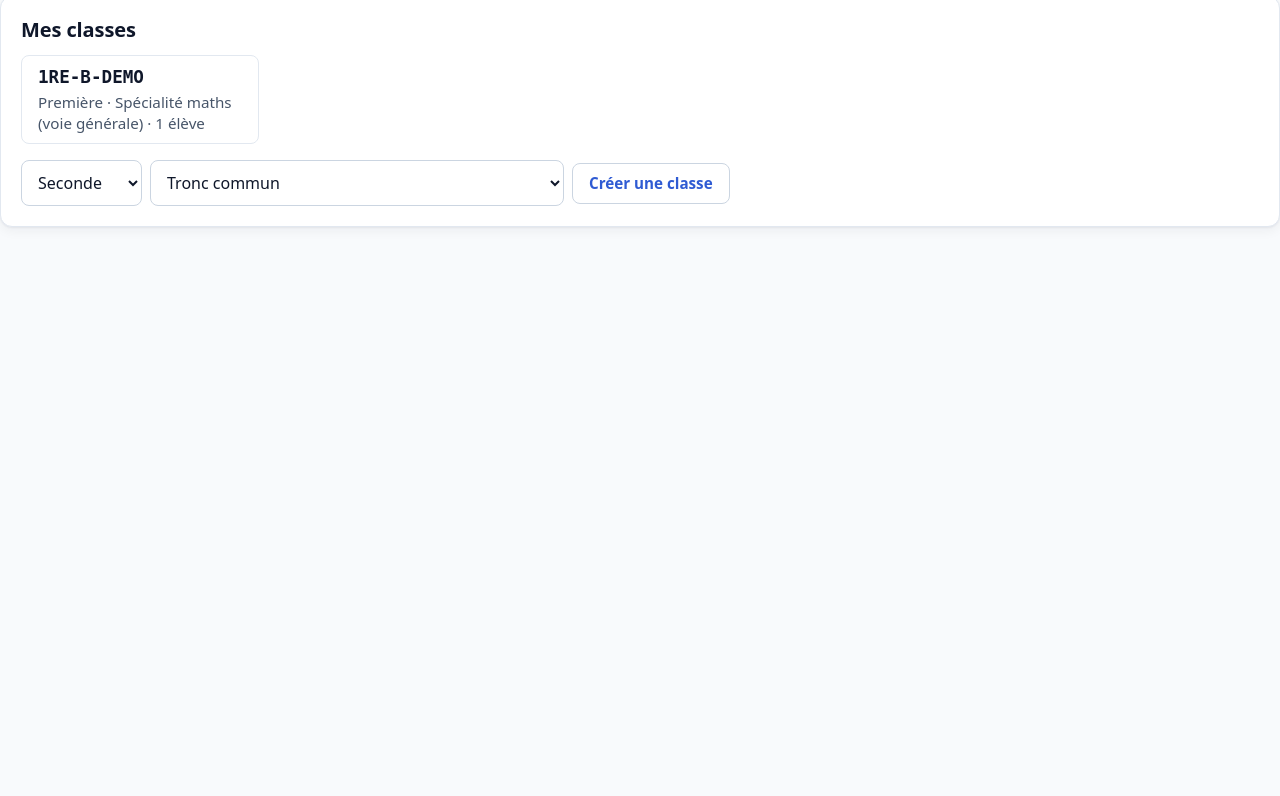
Test case: enseignant : chapitres proposés › affiche le programme, permet d'ouvrir ou fermer des chapitres et enregistre
Click the button "1RE-B-DEMO" at (140, 100), box [21,55,259,144]
(page scrolled)
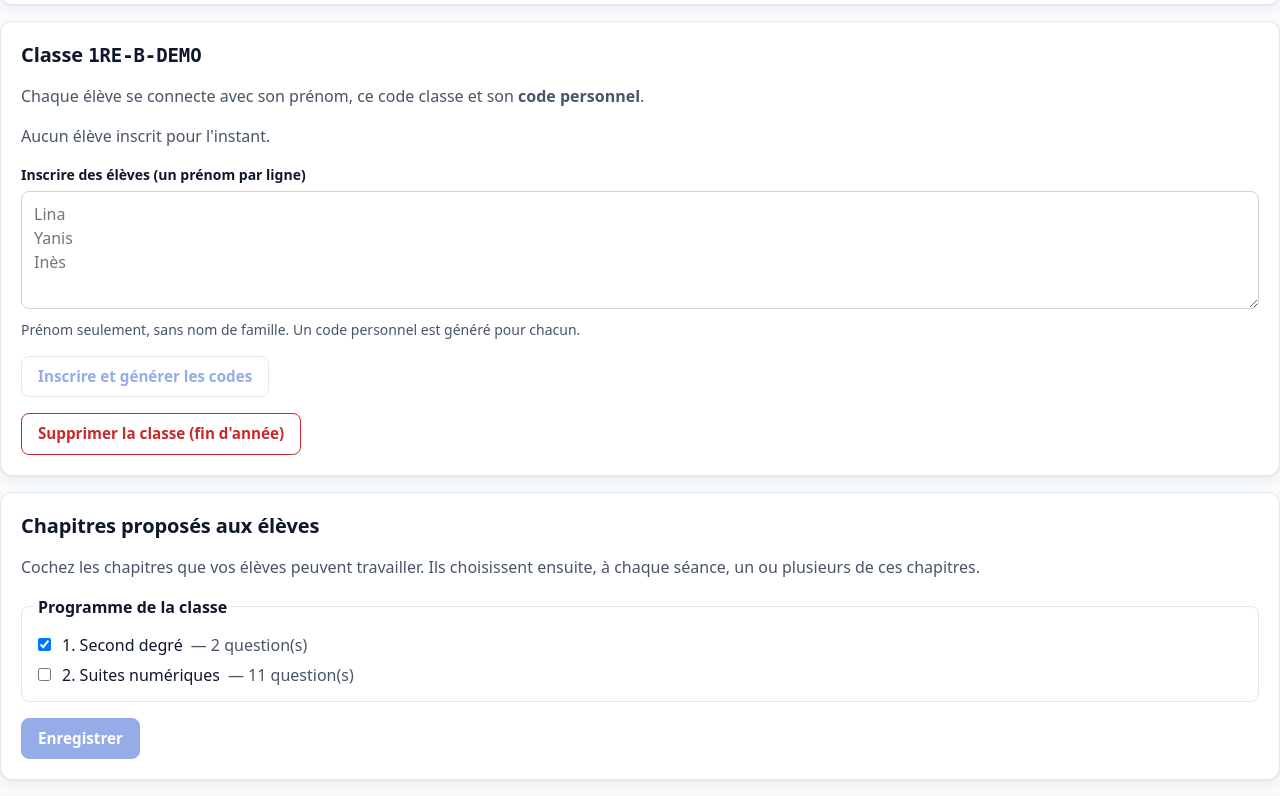
Check: the checkbox labelled "2. Suites numériques — 11 question(s)" is not checked
Check: the button "Enregistrer" is disabled, box [21,718,140,759]
Click the checkbox labelled "2. Suites numériques — 11 question(s)" at (44, 675), box [38,668,51,681]
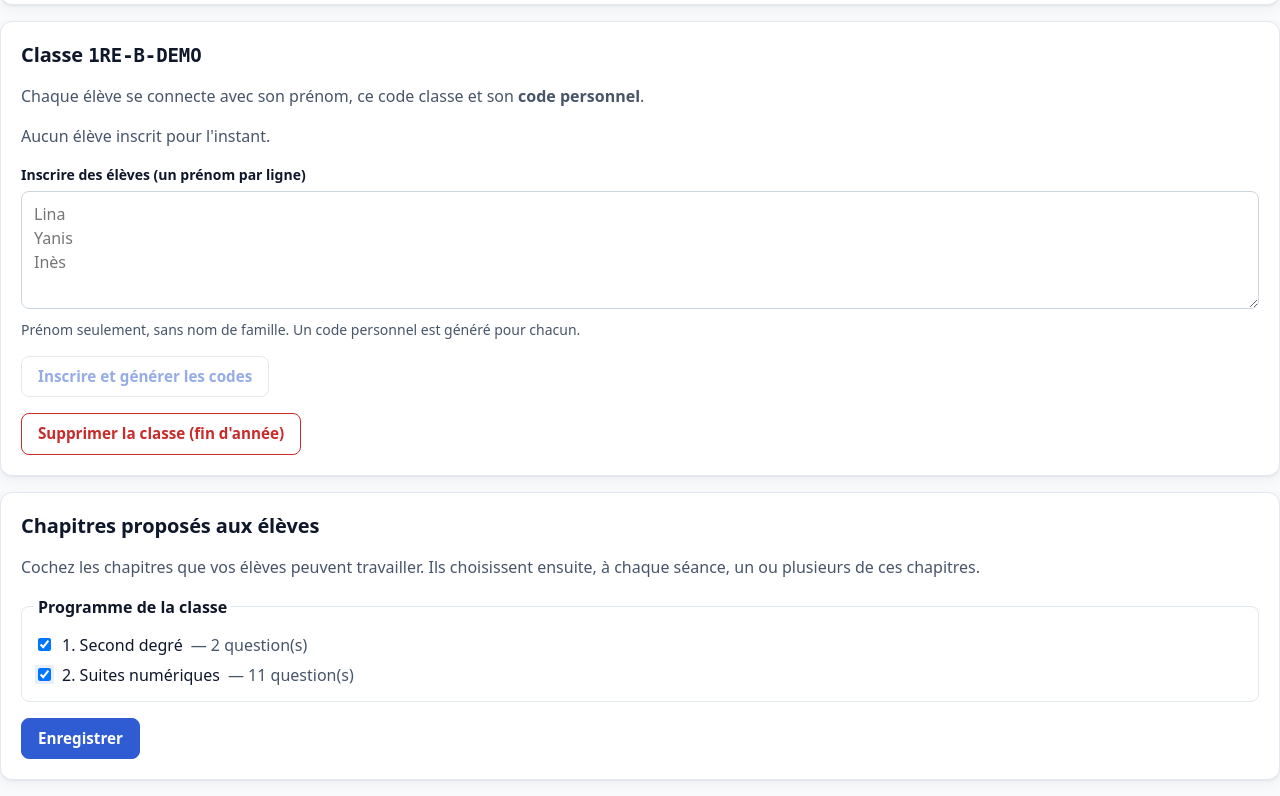
Click the button "Enregistrer" at (80, 738), box [21,718,140,759]
(page scrolled)
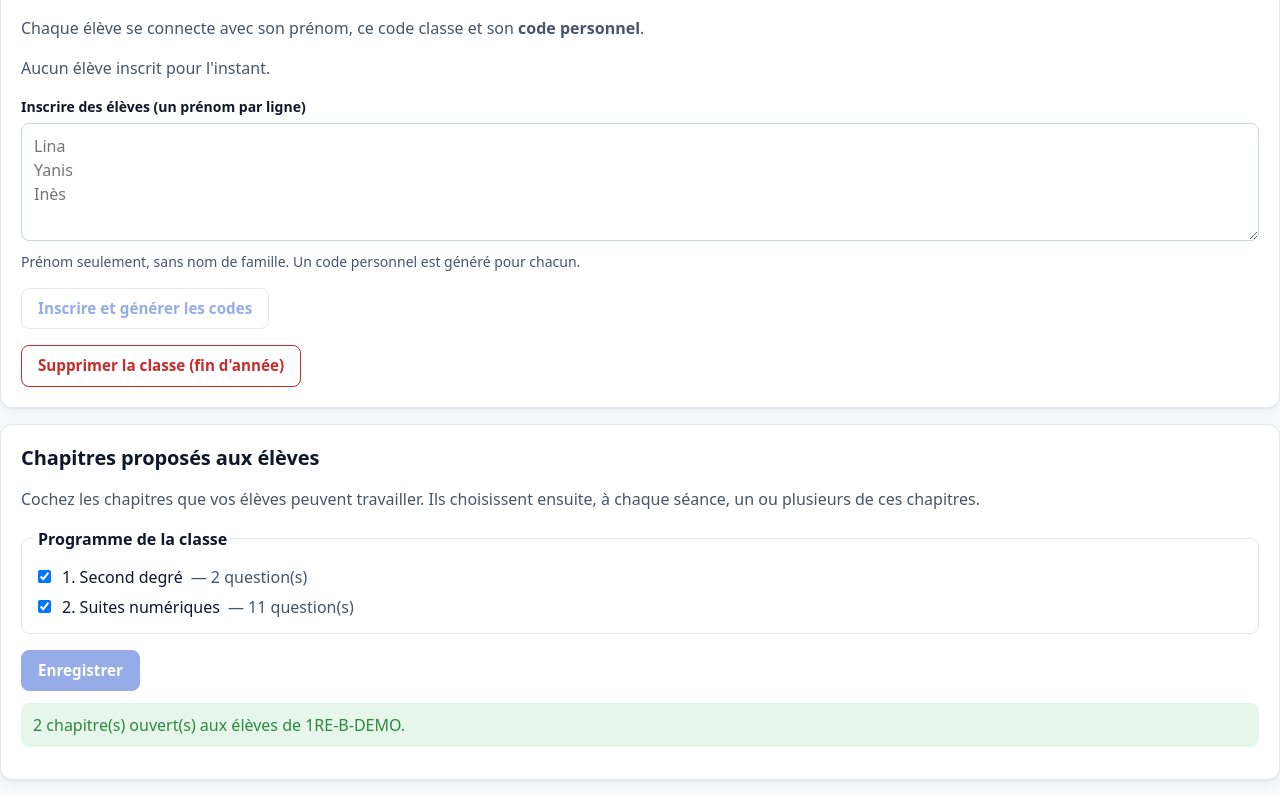
Check: the text "2 chapitre(s) ouvert(s) aux élèves de 1RE-B-DEMO." is shown, box [21,703,1259,747]
